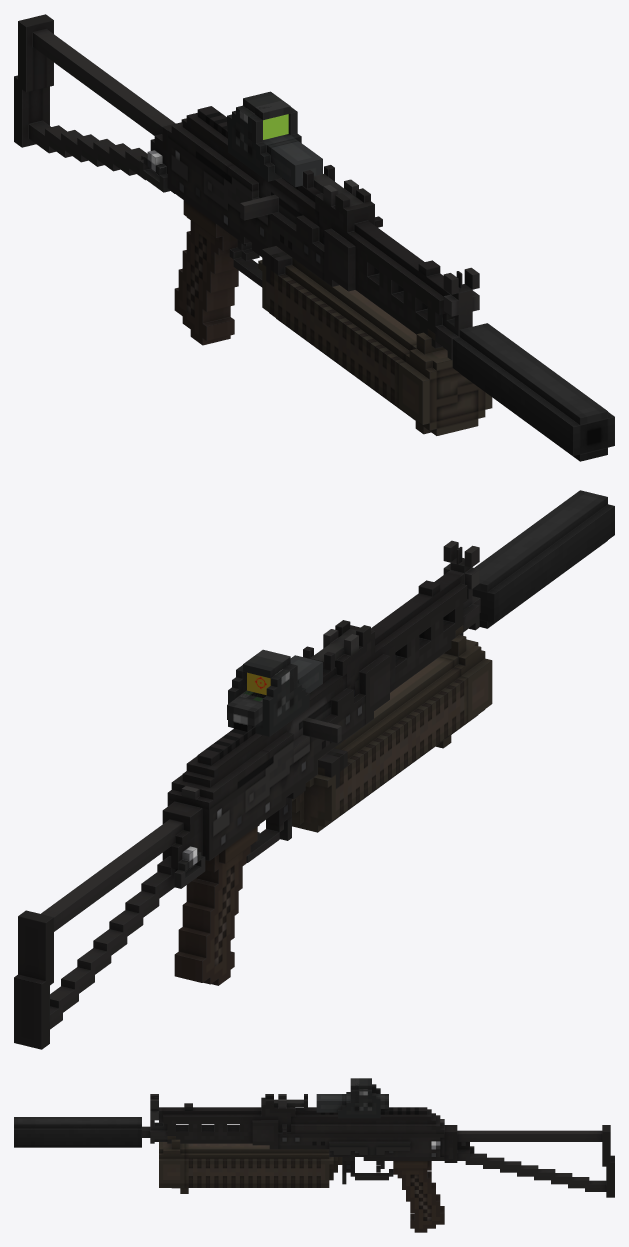
Rendered from RD_BIZON_DESERT.glb.
The picture shows the model from 3 angles, top to bottom: view 1: azimuth 30°, elevation 25°; view 2: azimuth 150°, elevation 25°; view 3: azimuth 270°, elevation 25°; orthographic projection. The views are drawn at different scales.
Parts seen in each view (by area): view 1: BIZON, BIZON_CLIP, SILENCER_6X6, SCOPE_EOTECH, SCOPE_AIMPOINT, BIZON_BOLT; view 2: BIZON, BIZON_CLIP, SILENCER_6X6, SCOPE_EOTECH, SCOPE_AIMPOINT; view 3: BIZON, BIZON_CLIP, SILENCER_6X6, SCOPE_EOTECH, SCOPE_AIMPOINT.
Part boxes in pixels (<box>): BIZON: <box>14,14,479,360</box>; BIZON_CLIP: <box>258,246,492,435</box>; SILENCER_6X6: <box>452,323,614,461</box>; SCOPE_EOTECH: <box>228,91,322,187</box>; SCOPE_AIMPOINT: <box>227,100,297,143</box>; BIZON_BOLT: <box>240,194,278,220</box>; BIZON: <box>14,540,480,1049</box>; BIZON_CLIP: <box>292,625,492,832</box>; SILENCER_6X6: <box>472,490,614,628</box>; SCOPE_EOTECH: <box>228,655,322,736</box>; SCOPE_AIMPOINT: <box>227,649,297,731</box>; BIZON: <box>142,1094,614,1232</box>; BIZON_CLIP: <box>159,1136,342,1193</box>; SILENCER_6X6: <box>14,1117,141,1147</box>; SCOPE_EOTECH: <box>316,1078,380,1118</box>; SCOPE_AIMPOINT: <box>350,1078,388,1110</box>.
Size of the model in its own units: 0.1279 by 0.3739 by 1.39.
Materials: 6 (6 with a texture image).
